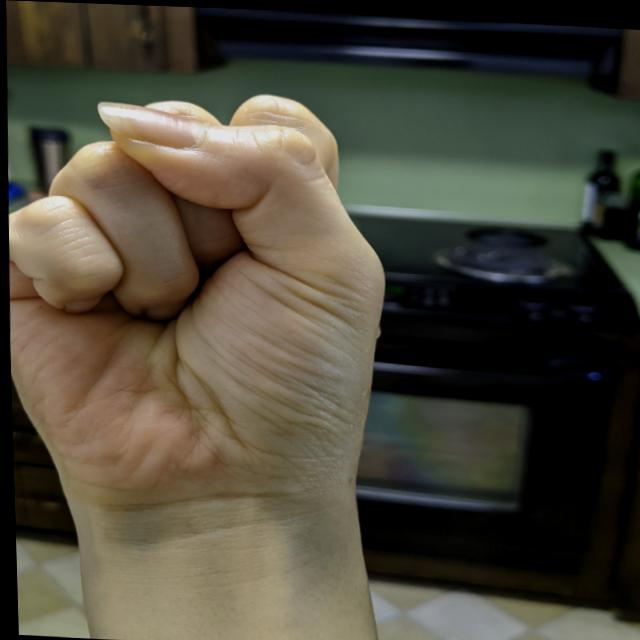S: (2, 70, 406, 531)
